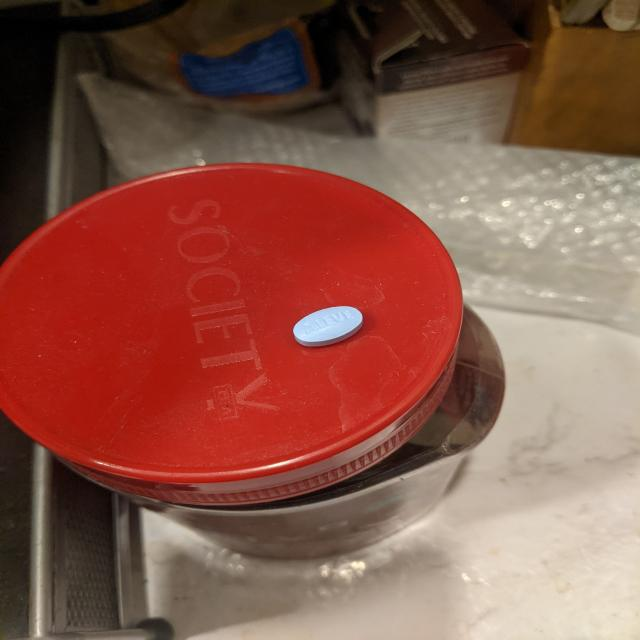non-organic waste: (291, 305, 364, 348)
